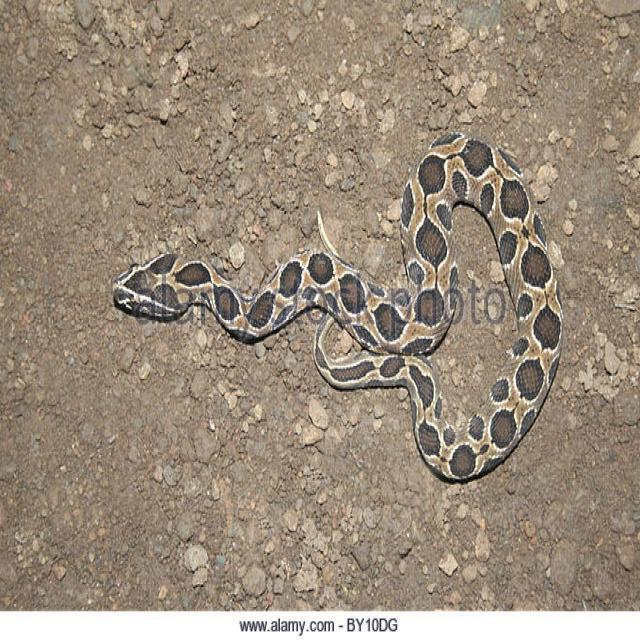Snake: (111, 129, 564, 484)
